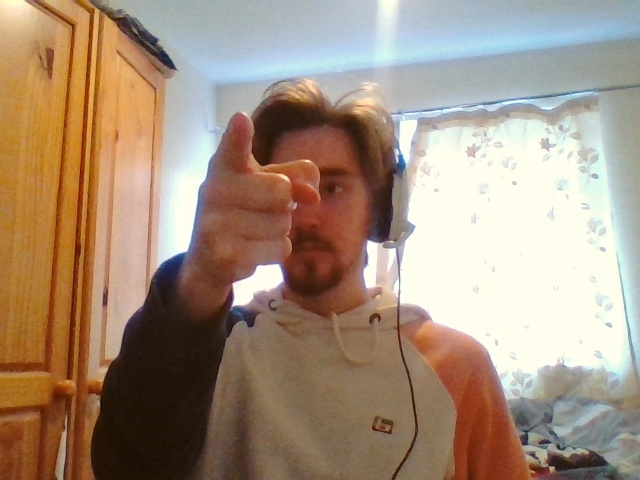you: (194, 112, 320, 277)
